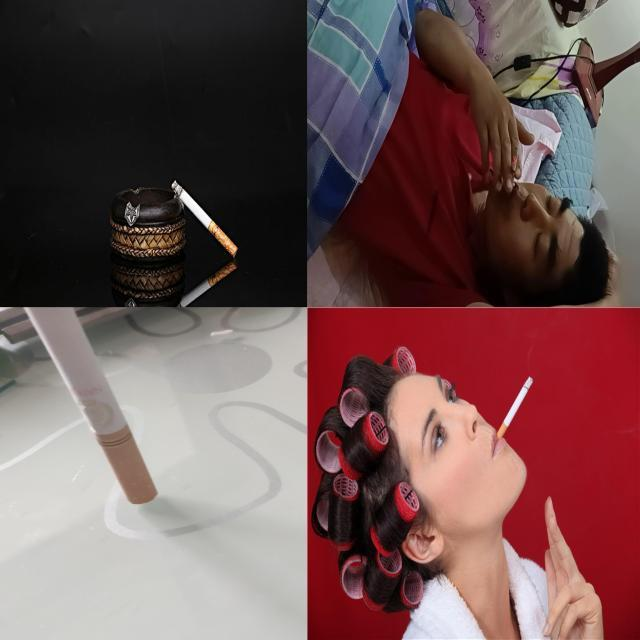smoking: (0, 307, 159, 505), (172, 180, 238, 256), (177, 260, 237, 306), (496, 375, 534, 442), (510, 146, 520, 190)
